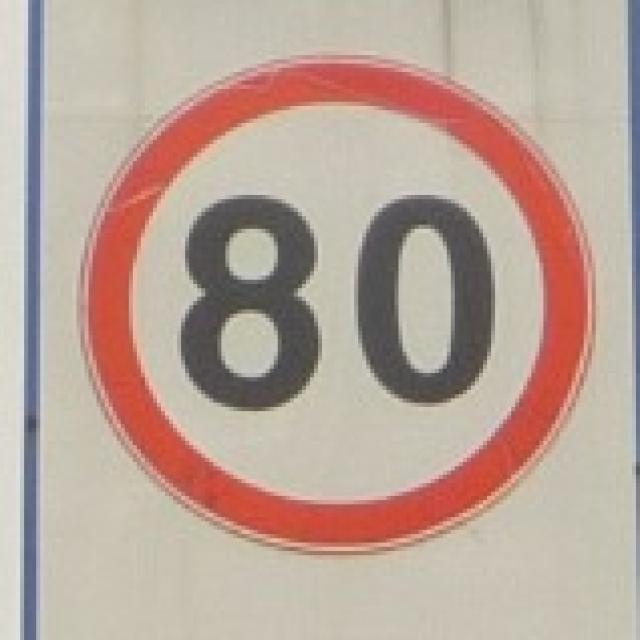Speed Limit -80-: (174, 184, 502, 413)
